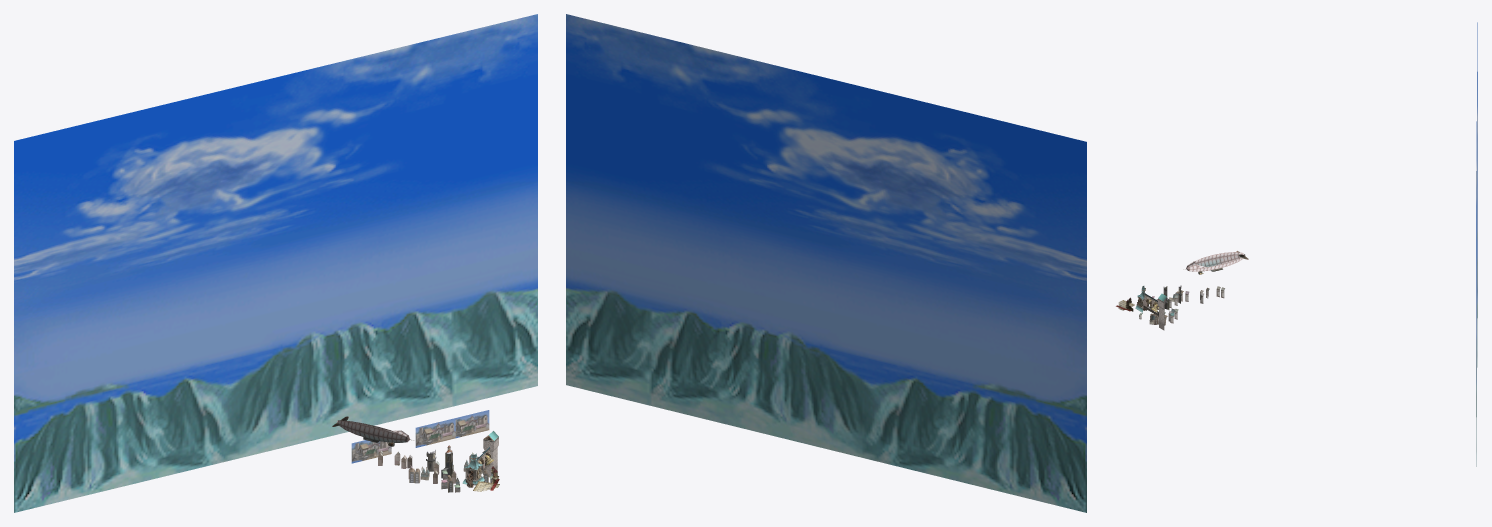
Rendered from mvc2-clocktower.glb.
The picture shows the model from 3 angles, left to right: view 1: azimuth 30°, elevation 25°; view 2: azimuth 150°, elevation 25°; view 3: azimuth 270°, elevation 25°; orthographic projection. The views are drawn at different scales.
Parts seen in each view (by area): view 1: Main, Blimp; view 2: Main; view 3: Main, Blimp.
Part boxes in pixels (x1,y1,x2,y2): Main: [14, 14, 537, 512]; Blimp: [332, 416, 413, 446]; Main: [566, 14, 1086, 512]; Main: [1116, 22, 1477, 466]; Blimp: [1183, 251, 1248, 274].
Bounding box in the file's own units: 666 × 453 × 502.
13 materials, 13 textured.
